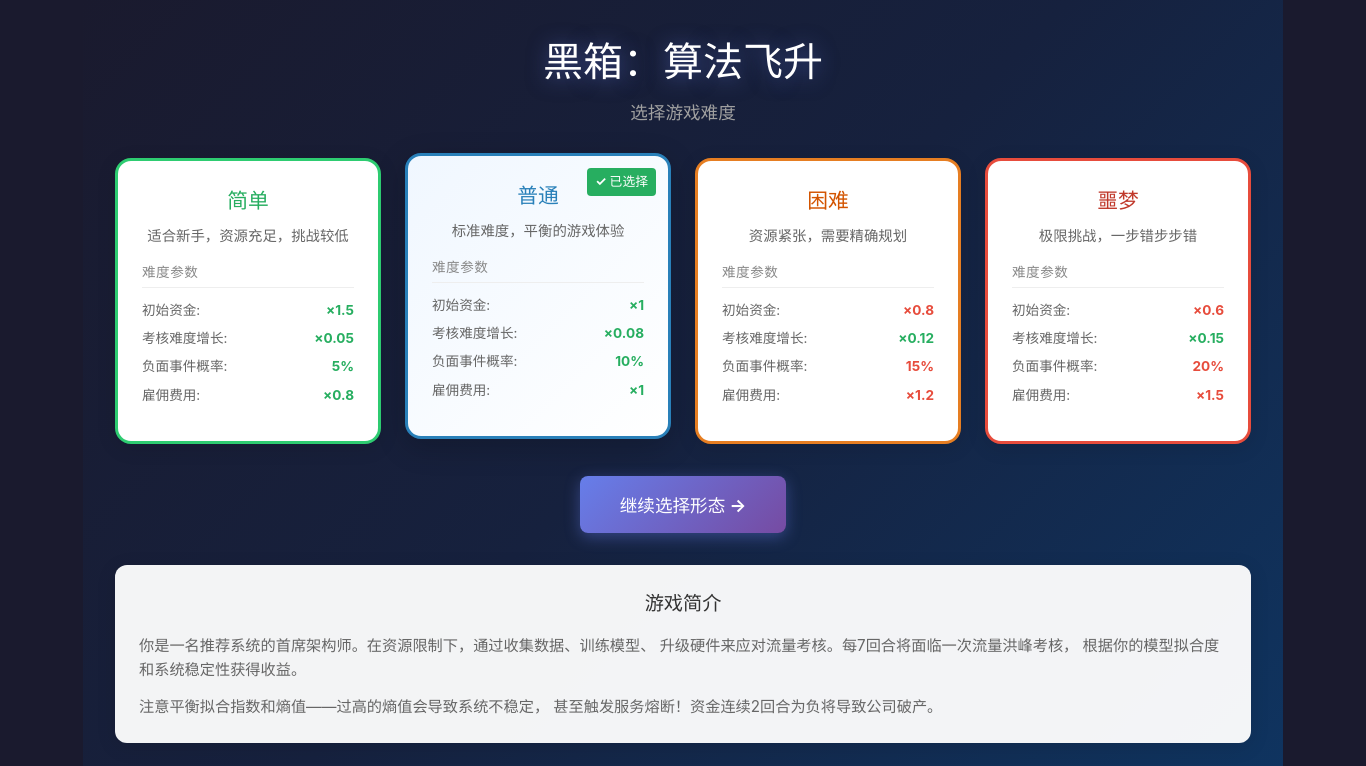
GameInitializer 组件 › 形态选择界面 › 点击更改难度按钮应该返回难度选择界面
Click the button "继续选择形态 →" at [683, 505], box [580,476,786,533]
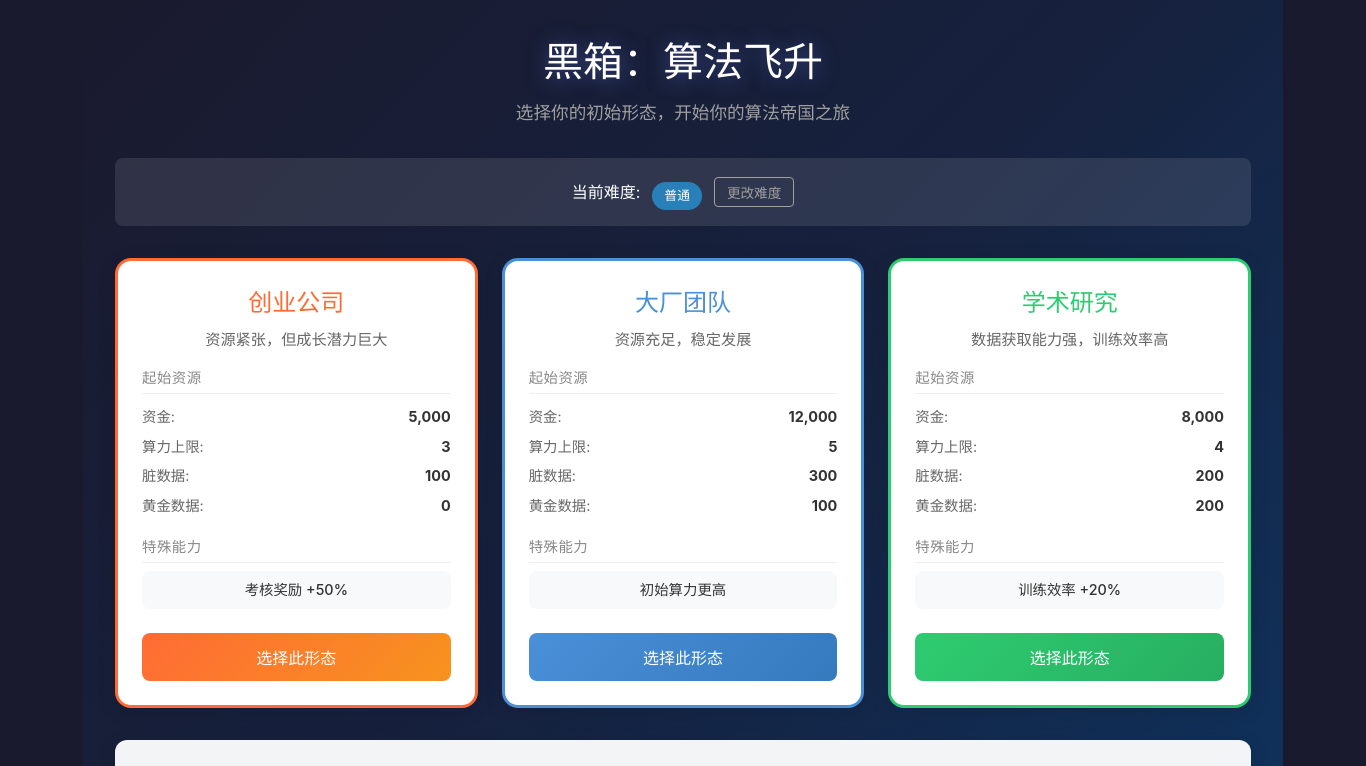
Click the button "更改难度" at [754, 192], box [714,177,794,207]
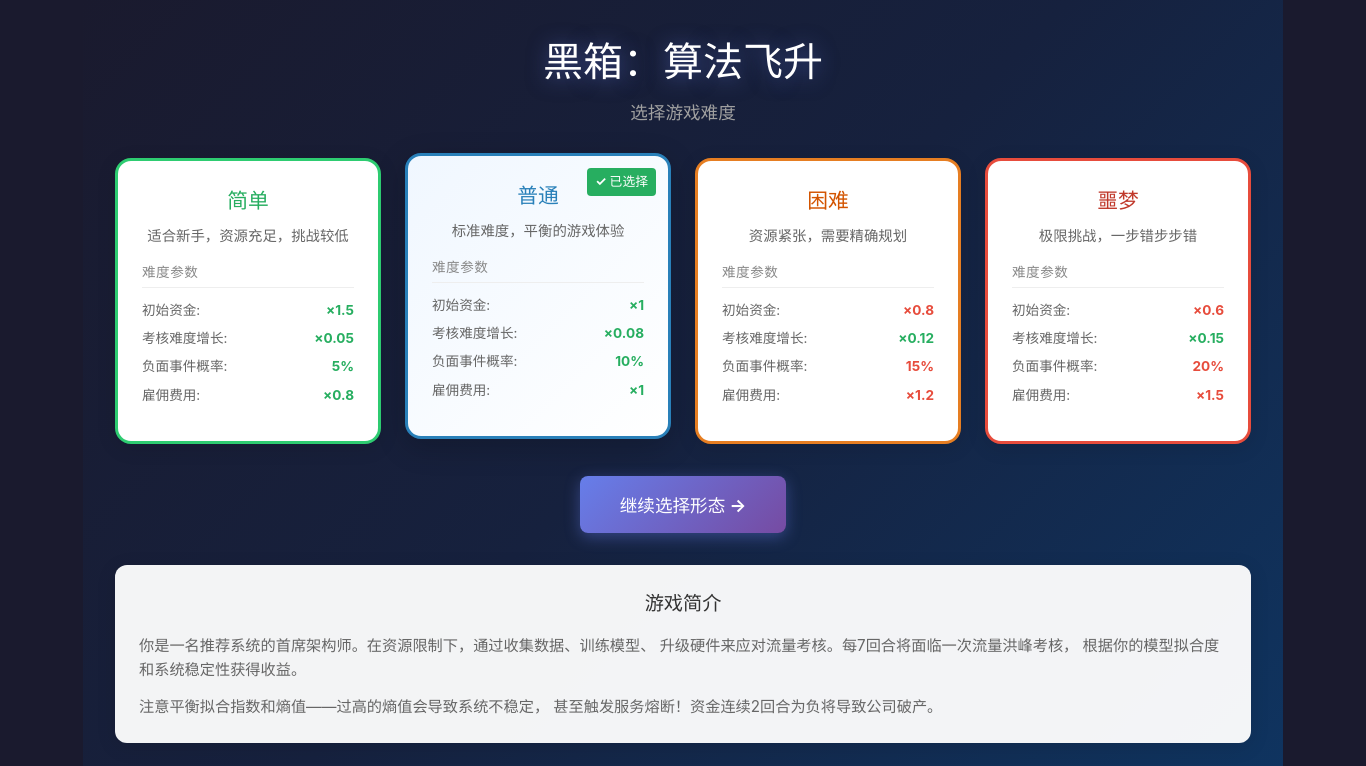
Now the button "继续选择形态 →" is shown, box [580,476,786,533]
